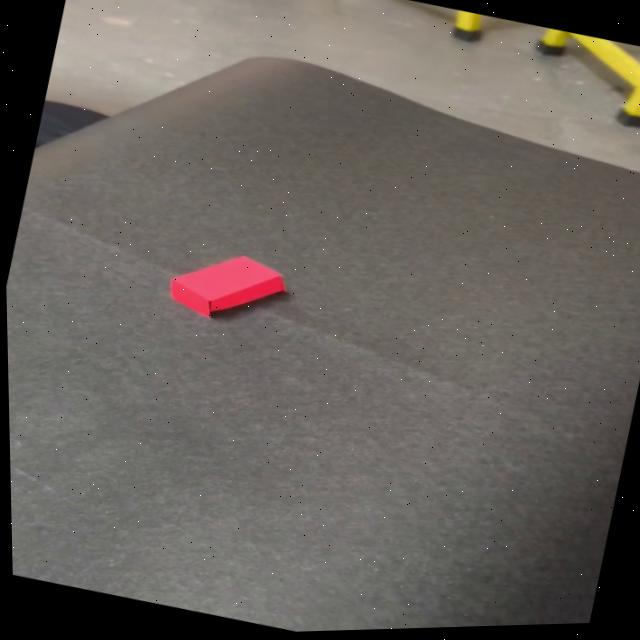red block: (162, 237, 295, 336)
